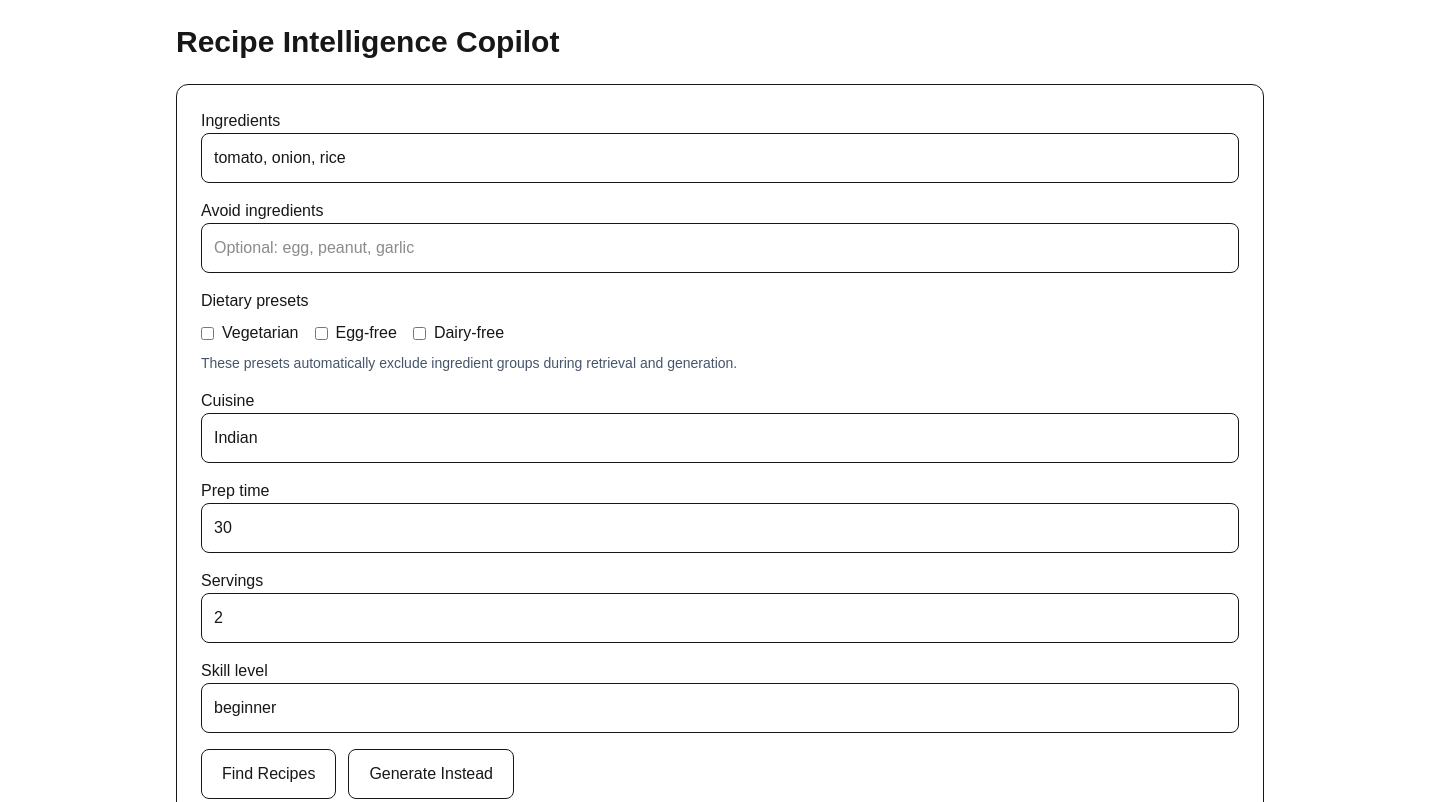
Test: Recipe page › shows generic fallback warning UX
The width and height of the screenshot is (1440, 802).
Replace the text in the field labelled "Ingredients" with "abc, xyz" at (720, 158), box [201,133,1239,183]
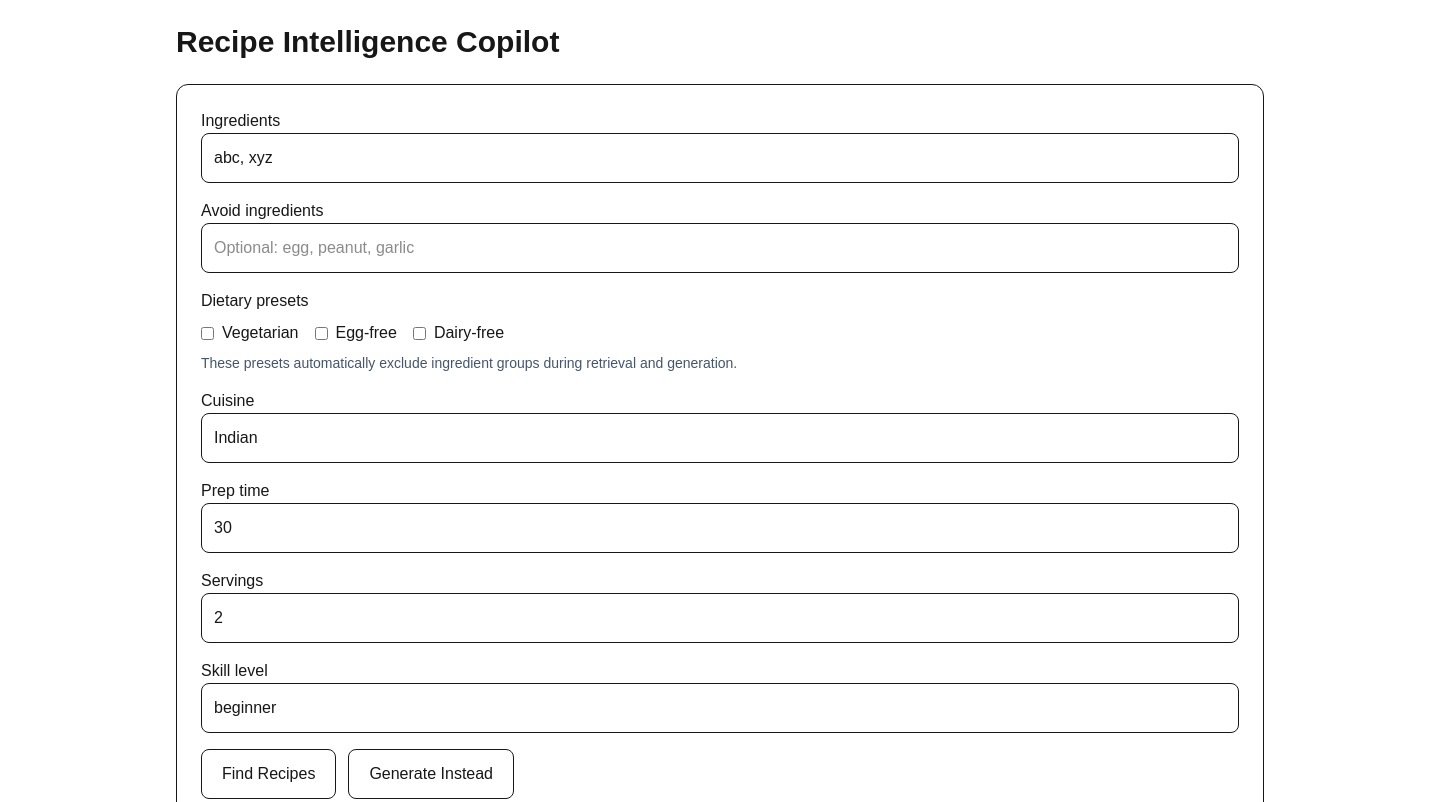
Click the button "Generate Instead".
click(431, 774)  # box [348,749,514,799]
(page scrolled)
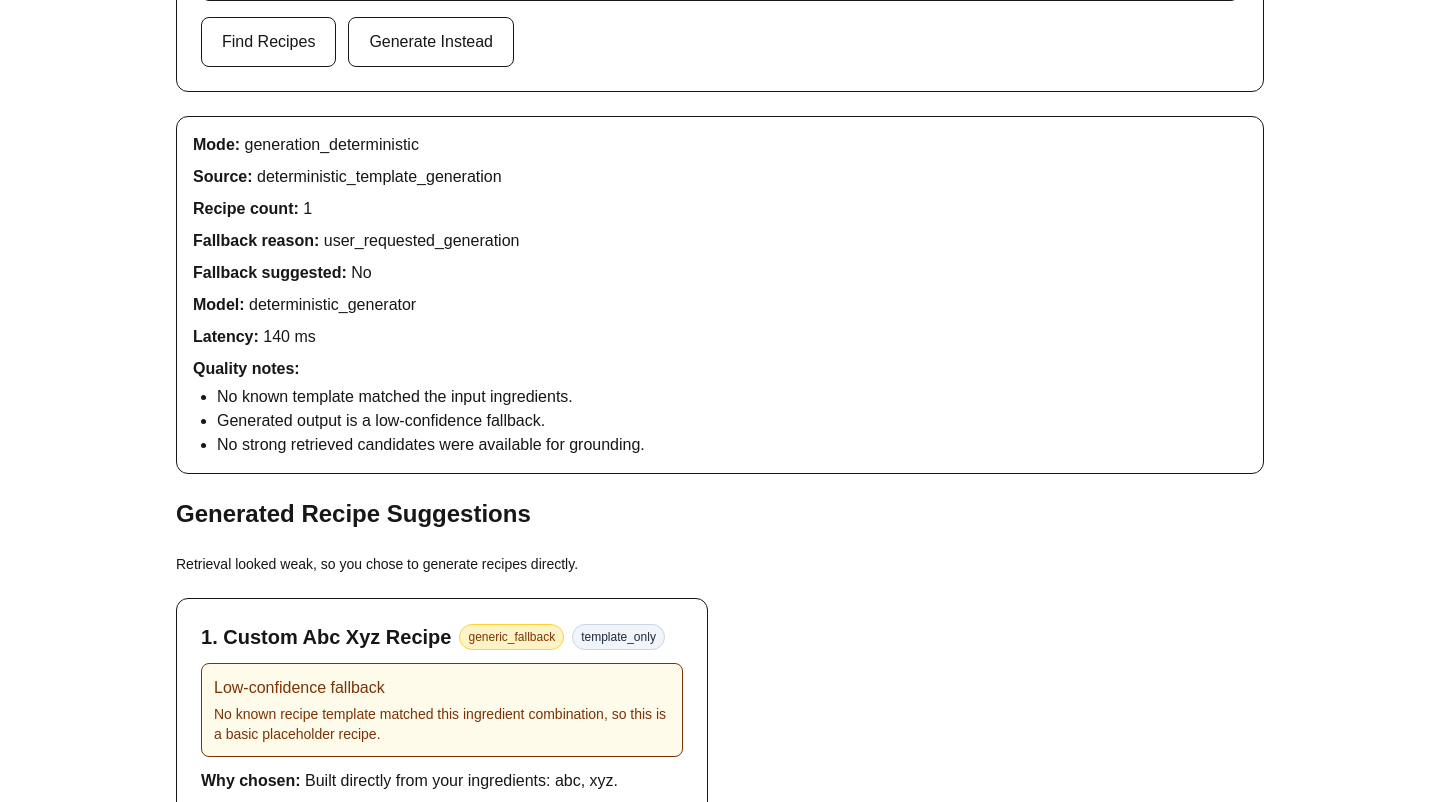
Check: the heading "1. Custom Abc Xyz Recipe" is shown, box [201,623,452,651]
Check: the list item "No known template matched the input ingredients." is shown, box [217,388,573,405]
